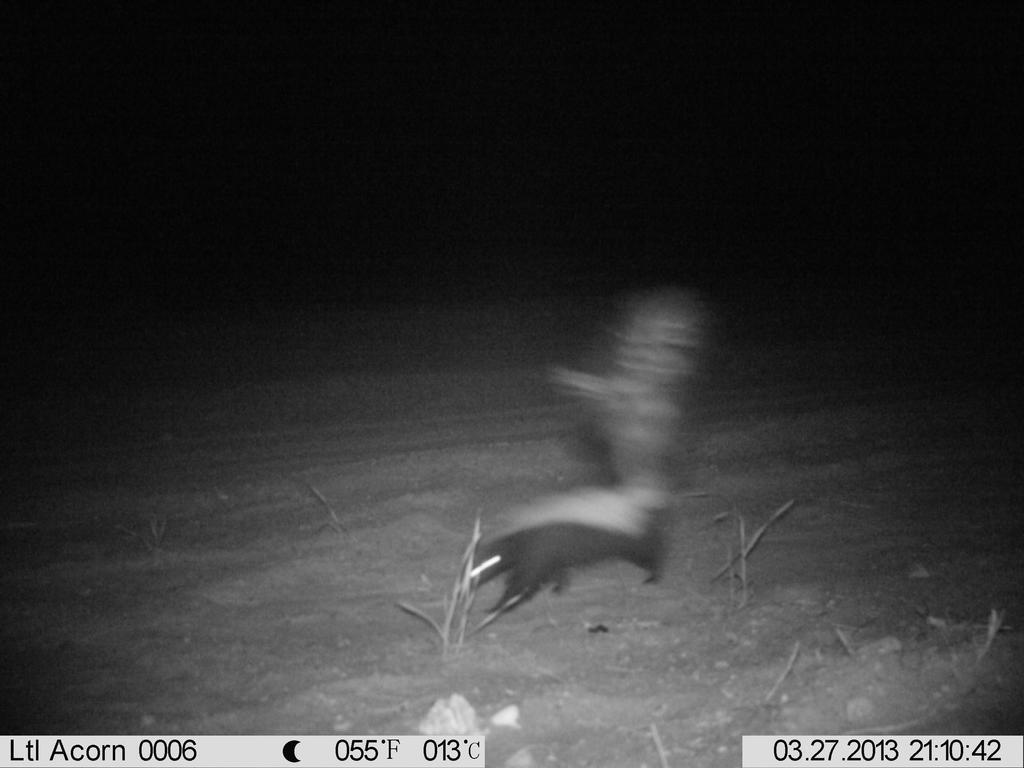skunk: (457, 278, 724, 631)
